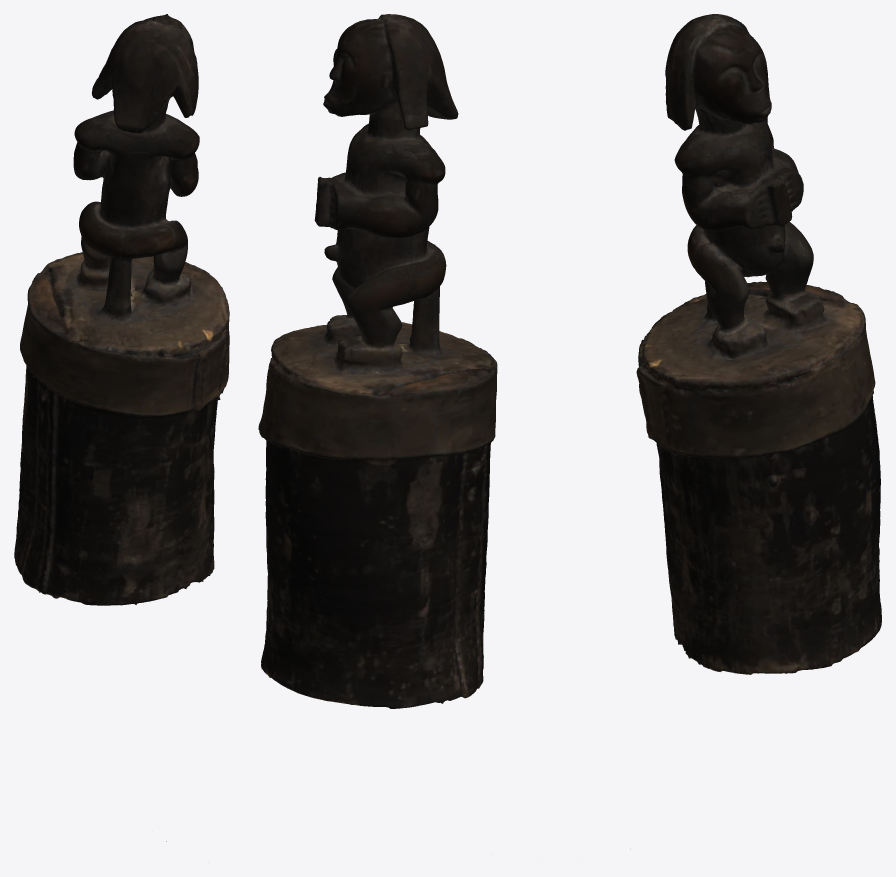
The model's file is preview.glb.
3 views of the same model, side by side, from view 1: azimuth 30°, elevation 25°; view 2: azimuth 150°, elevation 25°; view 3: azimuth 270°, elevation 25° (orthographic). The views are drawn at different scales.
Visible parts, largest first — view 1: Object_2; view 2: Object_2; view 3: Object_2.
Part boxes in pixels (box(x1,y1,x2,y2)): Object_2: box(14, 14, 229, 841); Object_2: box(258, 14, 497, 708); Object_2: box(630, 14, 881, 849).
Bounding box in the file's own units: 197 × 802 × 291.
Materials: 1 (1 with a texture image).
